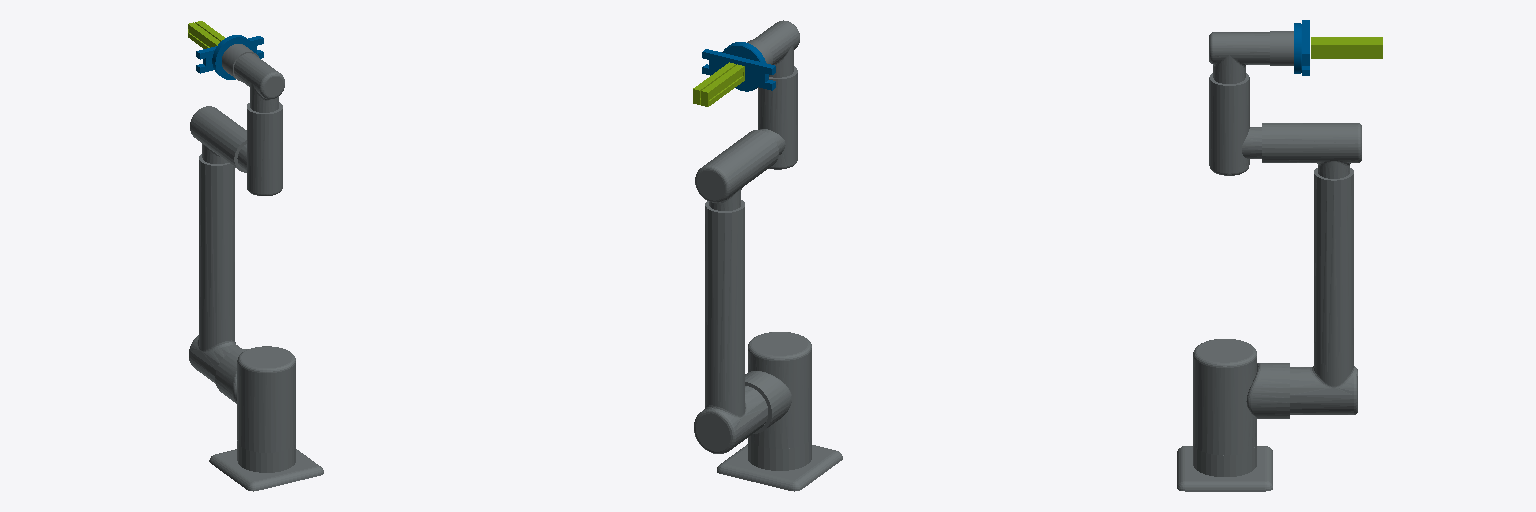
URDF robot description (bobby_v3):
<robot
  name="bobby_v3">
  <link
    name="bobby_base_link">
    <inertial>
      <origin
        xyz="-6.93889390390723E-18 -8.67361737988404E-18 0.00903009179983284"
        rpy="0 0 0" />
      <mass
        value="0.168853238991176" />
      <inertia
        ixx="0.000188908722369925"
        ixy="-5.7902642878712E-21"
        ixz="4.9831826221772E-21"
        iyy="0.000188908722369926"
        iyz="-1.68425616825269E-20"
        izz="0.000347553571686864" />
    </inertial>
    <visual>
      <origin
        xyz="0 0 0"
        rpy="0 0 0" />
      <geometry>
        <mesh
          filename="package://bobby/meshes/base_link.STL" />
      </geometry>
      <material
        name="technikum_grau">
        <color
          rgba="0.447 0.471 0.478 1" />
      </material>
    </visual>
    <collision>
      <origin
        xyz="0 0 0"
        rpy="0 0 0" />
      <geometry>
        <mesh
          filename="package://bobby/meshes/base_link.STL" />
      </geometry>
    </collision>
  </link>
  <link
    name="bobby_link_1">
    <inertial>
      <origin
        xyz="-2.15652112519824E-07 0.0107734448420019 0.109157368914489"
        rpy="0 0 0" />
      <mass
        value="0.19567354215977" />
      <inertia
        ixx="0.00036569472644765"
        ixy="3.25955315579442E-10"
        ixz="1.75361435601525E-09"
        iyy="0.000399646100597159"
        iyz="5.8509284245807E-07"
        izz="0.000228564395108126" />
    </inertial>
    <visual>
      <origin
        xyz="0 0 0"
        rpy="0 0 0" />
      <geometry>
        <mesh
          filename="package://bobby/meshes/link_1.STL" />
      </geometry>
      <material
        name="technikum_grau">
        <color
          rgba="0.447 0.471 0.478 1" />
      </material>
    </visual>
    <collision>
      <origin
        xyz="0 0 0"
        rpy="0 0 0" />
      <geometry>
        <mesh
          filename="package://bobby/meshes/link_1.STL" />
      </geometry>
    </collision>
  </link>
  <joint
    name="joint_1"
    type="revolute">
    <origin
      xyz="0 0 0"
      rpy="0 0 0" />
    <parent
      link="bobby_base_link" />
    <child
      link="bobby_link_1" />
    <axis
      xyz="0 0 1" />
    <limit
      lower="-3.14"
      upper="3.14"
      effort="80"
      velocity="1.5" />
    <dynamics
      damping="0.2" />
  </joint>
  <link
    name="bobby_link_2">
    <inertial>
      <origin
        xyz="-1.60868451060114E-08 -0.114041602248857 0.132749921878617"
        rpy="0 0 0" />
      <mass
        value="0.277035202004268" />
      <inertia
        ixx="0.00289478457764281"
        ixy="-1.24048336188053E-09"
        ixz="1.22368569354385E-09"
        iyy="0.000189976410051189"
        iyz="7.94253254153287E-05"
        izz="0.00286373711090803" />
    </inertial>
    <visual>
      <origin
        xyz="0 0 0"
        rpy="0 0 0" />
      <geometry>
        <mesh
          filename="package://bobby/meshes/link_2.STL" />
      </geometry>
      <material
        name="technikum_grau">
        <color
          rgba="0.447 0.471 0.478 1" />
      </material>
    </visual>
    <collision>
      <origin
        xyz="0 0 0"
        rpy="0 0 0" />
      <geometry>
        <mesh
          filename="package://bobby/meshes/link_2.STL" />
      </geometry>
    </collision>
  </link>
  <joint
    name="joint_2"
    type="revolute">
    <origin
      xyz="0 0 0.11"
      rpy="-1.5707963267949 0 0" />
    <parent
      link="bobby_link_1" />
    <child
      link="bobby_link_2" />
    <axis
      xyz="0 0 1" />
    <limit
      lower="-2"
      upper="2"
      effort="60"
      velocity="1.5" />
    <dynamics
      damping="0.15" />
  </joint>
  <link
    name="bobby_link_3">
    <inertial>
      <origin
        xyz="-4.46835846875521E-07 -0.021332834225784 0.336950985055037"
        rpy="0 0 0" />
      <mass
        value="0.104323112073039" />
      <inertia
        ixx="0.000172552084016025"
        ixy="1.24275852401533E-10"
        ixz="-1.16774421742549E-10"
        iyy="5.69008711097092E-05"
        iyz="6.87130934985452E-06"
        izz="0.000165314592613562" />
    </inertial>
    <visual>
      <origin
        xyz="0 0 0"
        rpy="0 0 0" />
      <geometry>
        <mesh
          filename="package://bobby/meshes/link_3.STL" />
      </geometry>
      <material
        name="technikum_grau">
        <color
          rgba="0.447 0.471 0.478 1" />
      </material>
    </visual>
    <collision>
      <origin
        xyz="0 0 0"
        rpy="0 0 0" />
      <geometry>
        <mesh
          filename="package://bobby/meshes/link_3.STL" />
      </geometry>
    </collision>
  </link>
  <joint
    name="joint_3"
    type="revolute">
    <origin
      xyz="0 0 0.135"
      rpy="1.5707963267949 0 0" />
    <parent
      link="bobby_link_2" />
    <child
      link="bobby_link_3" />
    <axis
      xyz="0 0 -1" />
    <limit
      lower="-2.5"
      upper="2.5"
      effort="40"
      velocity="2" />
    <dynamics
      damping="0.1" />
  </joint>
  <link
    name="bobby_link_4">
    <inertial>
      <origin
        xyz="-7.35759638319233E-08 0.0214973669189123 0.127010226840711"
        rpy="0 0 0" />
      <mass
        value="0.104021403954901" />
      <inertia
        ixx="0.000172095228395825"
        ixy="5.22139873101622E-11"
        ixz="-7.41592698784508E-11"
        iyy="5.67379606621111E-05"
        iyz="-6.68507413422721E-06"
        izz="0.000164961710546567" />
    </inertial>
    <visual>
      <origin
        xyz="0 0 0"
        rpy="0 0 0" />
      <geometry>
        <mesh
          filename="package://bobby/meshes/link_4.STL" />
      </geometry>
      <material
        name="technikum_grau">
        <color
          rgba="0.447 0.471 0.478 1" />
      </material>
    </visual>
    <collision>
      <origin
        xyz="0 0 0"
        rpy="0 0 0" />
      <geometry>
        <mesh
          filename="package://bobby/meshes/link_4.STL" />
      </geometry>
    </collision>
  </link>
  <joint
    name="joint_4"
    type="revolute">
    <origin
      xyz="0 0.000262563950500366 0.34"
      rpy="1.5707963267949 0 0" />
    <parent
      link="bobby_link_3" />
    <child
      link="bobby_link_4" />
    <axis
      xyz="0 0 -1" />
    <limit
      lower="-3.14"
      upper="3.14"
      effort="20"
      velocity="3" />
    <dynamics
      damping="0.05" />
  </joint>
  <link
    name="bobby_link_5">
    <inertial>
      <origin
        xyz="-7.72747078825464E-09 0.0118852064404541 0.124078122231419"
        rpy="0 0 0" />
      <mass
        value="0.0635312499775335" />
      <inertia
        ixx="5.3078651829625E-05"
        ixy="-2.16462957974075E-11"
        ixz="-2.18923663634894E-11"
        iyy="2.59966766341151E-05"
        iyz="-4.43828682190682E-06"
        izz="4.66910033521407E-05" />
    </inertial>
    <visual>
      <origin
        xyz="0 0 0"
        rpy="0 0 0" />
      <geometry>
        <mesh
          filename="package://bobby/meshes/link_5.STL" />
      </geometry>
      <material
        name="technikum_grau">
        <color
          rgba="0.447 0.471 0.478 1" />
      </material>
    </visual>
    <collision>
      <origin
        xyz="0 0 0"
        rpy="0 0 0" />
      <geometry>
        <mesh
          filename="package://bobby/meshes/link_5.STL" />
      </geometry>
    </collision>
  </link>
  <joint
    name="joint_5"
    type="revolute">
    <origin
      xyz="0 -0.000178126389957234 0.13"
      rpy="-1.5707963267949 0 0" />
    <parent
      link="bobby_link_4" />
    <child
      link="bobby_link_5" />
    <axis
      xyz="0 0 -1" />
    <limit
      lower="-2"
      upper="2"
      effort="15"
      velocity="3.5" />
    <dynamics
      damping="0.05" />
  </joint>
  <link
    name="bobby_link_6">
    <inertial>
      <origin
        xyz="-9.09411435046081E-14 -4.99933427988708E-13 0.00443393044915172"
        rpy="0 0 0" />
      <mass
        value="0.0247796339074861" />
      <inertia
        ixx="5.79719477129161E-06"
        ixy="1.69371937738642E-21"
        ixz="-1.74584771115396E-21"
        iyy="5.61206813663289E-06"
        iyz="1.25047386620786E-20"
        izz="8.2664668127508E-06" />
    </inertial>
    <visual>
      <origin xyz="0 0 -0.005" rpy="0 0 0"/>
      <geometry><mesh filename="package://bobby/meshes/link_6.STL" scale="0.001 0.001 0.001"/></geometry>
      <material name="technikum_grau"><color rgba="0.447 0.471 0.478 1"/></material>
    </visual>
    <collision>
      <origin xyz="0 0 -0.005" rpy="0 0 0"/>
      <geometry><mesh filename="package://bobby/meshes/link_6.STL" scale="0.001 0.001 0.001"/></geometry>
    </collision>
  </link>
  <joint
    name="joint_6"
    type="revolute">
    <origin
      xyz="0 0.0700000000012193 0.129999999999002"
      rpy="-1.57079632679489 0 0" />
    <parent
      link="bobby_link_5" />
    <child
      link="bobby_link_6" />
    <axis
      xyz="0 0 -1" />
    <limit
      lower="-3.14"
      upper="3.14"
      effort="10"
      velocity="4" />
    <dynamics
      damping="0.03" />
  </joint>
  
  
  <link name="bobby_gripper_flange">
    <inertial>
      <origin xyz="0 0 0.005" rpy="0 0 0"/>
      <mass value="0.2"/>
      <inertia ixx="6.782e-05" ixy="0" ixz="0" iyy="6.782e-05" iyz="0" izz="1.323e-04"/>
    </inertial>
    <visual>
      <origin xyz="0 0 0.005" rpy="0 0 0"/>
      <geometry><mesh filename="package://bobby/meshes/gripper_flange.STL" scale="0.001 0.001 0.001"/></geometry>
      <material name="technikum_blau"><color rgba="0 0.392 0.612 1"/></material>
    </visual>
    <collision>
      <origin xyz="0 0 0.005" rpy="0 0 0"/>
      <geometry><mesh filename="package://bobby/meshes/gripper_flange.STL" scale="0.001 0.001 0.001"/></geometry>
    </collision>
  </link>
  <joint name="gripper_flange_joint" type="fixed">
    <origin xyz="0 0 0.01" rpy="0 0 0"/>
    <parent link="bobby_link_6"/>
    <child link="bobby_gripper_flange"/>
    <axis xyz="0 0 0"/>
  </joint>

  
  <link name="bobby_gripper_base">
    <inertial>
      <origin xyz="0 0 0.015" rpy="0 0 0"/>
      <mass value="0.028"/>
      <inertia ixx="2.333e-06" ixy="0" ixz="0" iyy="2.357e-05" iyz="0" izz="2.543e-05"/>
    </inertial>
    <visual>
      <origin xyz="0 0 0.015" rpy="0 0 0"/>
      <geometry><mesh filename="package://bobby/meshes/gripper_base.STL" scale="0.001 0.001 0.001"/></geometry>
      <material name="technikum_blau"/>
    </visual>
    <collision>
      <origin xyz="0 0 0.015" rpy="0 0 0"/>
      <geometry><mesh filename="package://bobby/meshes/gripper_base.STL" scale="0.001 0.001 0.001"/></geometry>
    </collision>
  </link>
  <joint name="gripper_base_joint" type="fixed">
    <origin xyz="0 0 0" rpy="0 0 0"/>
    <parent link="bobby_gripper_flange"/>
    <child link="bobby_gripper_base"/>
    <axis xyz="0 0 0"/>
  </joint>

  
  <link name="bobby_finger_left">
    <inertial>
      <origin xyz="0 0 0.045" rpy="0 0 0"/>
      <mass value="0.05"/>
      <inertia ixx="3.542e-05" ixy="0" ixz="0" iyy="3.417e-05" iyz="0" izz="2.083e-06"/>
    </inertial>
    <visual>
      <origin xyz="0 0 0.045" rpy="0 0 0"/>
      <geometry><mesh filename="package://bobby/meshes/finger_left.STL" scale="0.001 0.001 0.001"/></geometry>
      <material name="technikum_gruen"><color rgba="0.545 0.702 0.114 1"/></material>
    </visual>
    <collision>
      <origin xyz="0 0 0.045" rpy="0 0 0"/>
      <geometry><mesh filename="package://bobby/meshes/finger_left.STL" scale="0.001 0.001 0.001"/></geometry>
    </collision>
  </link>
  <joint name="finger_left_joint" type="prismatic">
    <origin xyz="0.006 0 0.021" rpy="0 0 0"/>
    <parent link="bobby_gripper_base"/>
    <child link="bobby_finger_left"/>
    <axis xyz="1 0 0"/>
    <limit lower="0" upper="0.04" effort="50" velocity="0.1"/>
  </joint>

  
  <link name="bobby_finger_right">
    <inertial>
      <origin xyz="0 0 0.045" rpy="0 0 0"/>
      <mass value="0.05"/>
      <inertia ixx="3.542e-05" ixy="0" ixz="0" iyy="3.417e-05" iyz="0" izz="2.083e-06"/>
    </inertial>
    <visual>
      <origin xyz="0 0 0.045" rpy="0 0 0"/>
      <geometry><mesh filename="package://bobby/meshes/finger_left.STL" scale="0.001 0.001 0.001"/></geometry>
      <material name="technikum_gruen"><color rgba="0.545 0.702 0.114 1"/></material>
    </visual>
    <collision>
      <origin xyz="0 0 0.045" rpy="0 0 0"/>
      <geometry><mesh filename="package://bobby/meshes/finger_left.STL" scale="0.001 0.001 0.001"/></geometry>
    </collision>
  </link>
  <joint name="finger_right_joint" type="prismatic">
    <origin xyz="-0.006 0 0.021" rpy="0 0 0"/>
    <parent link="bobby_gripper_base"/>
    <child link="bobby_finger_right"/>
    <axis xyz="1 0 0"/>
    <limit lower="-0.04" upper="0" effort="50" velocity="0.1"/>
    <mimic joint="finger_left_joint" multiplier="-1" offset="0"/>
  </joint>

  
  <link name="bobby_TCP"/>
  <joint name="TCP_joint" type="fixed">
    <origin xyz="0 0 0.111" rpy="0 0 0"/>
    <parent link="bobby_gripper_base"/>
    <child link="bobby_TCP"/>
    <axis xyz="0 0 0"/>
  </joint>
  <link name="world"/>
  <joint name="bobby_world_joint" type="fixed">
    <parent link="world"/>
    <child link="bobby_base_link"/>
    <origin xyz="0 1.5 0.8" rpy="0 0 0"/>
  </joint>
  <ros2_control name="bobby_system" type="system">
    <hardware>
      <plugin>gazebo_ros2_control/GazeboSystem</plugin>
    </hardware>
    <joint name="joint_1">
      <command_interface name="position"/>
      <state_interface name="position"/>
      <state_interface name="velocity"/>
    </joint>
    <joint name="joint_2">
      <command_interface name="position"/>
      <state_interface name="position"/>
      <state_interface name="velocity"/>
    </joint>
    <joint name="joint_3">
      <command_interface name="position"/>
      <state_interface name="position"/>
      <state_interface name="velocity"/>
    </joint>
    <joint name="joint_4">
      <command_interface name="position"/>
      <state_interface name="position"/>
      <state_interface name="velocity"/>
    </joint>
    <joint name="joint_5">
      <command_interface name="position"/>
      <state_interface name="position"/>
      <state_interface name="velocity"/>
    </joint>
    <joint name="joint_6">
      <command_interface name="position"/>
      <state_interface name="position"/>
      <state_interface name="velocity"/>
    </joint>
    <joint name="finger_left_joint">
      <command_interface name="position"/>
      <state_interface name="position"/>
      <state_interface name="velocity"/>
    </joint>
  </ros2_control>
  <gazebo>
    <plugin filename="libgazebo_ros2_control.so" name="bobby_gazebo_ros2_control">
      <robot_param>robot_description</robot_param>
      <robot_param_node>robot_state_publisher</robot_param_node>
      <ros>
        <namespace>/bobby</namespace>
      </ros>
      <parameters>__BOBBY_CONTROLLERS_YAML__</parameters>
    </plugin>
  </gazebo>
</robot>

--- Facts derived from the render (not from the file) ---
3 views of the same robot in one strip: view 1: azimuth 30°, elevation 25°; view 2: azimuth 150°, elevation 25°; view 3: azimuth 270°, elevation 25° (orthographic).
Robot: bobby_v3 — 13 links, 12 joints (6 revolute, 2 prismatic, 4 fixed); root link world; default pose: all joints at 0.
Links seen in each view (by area): view 1: bobby_link_2, bobby_link_1, bobby_base_link, bobby_link_4, bobby_link_3, bobby_link_5, bobby_gripper_flange, bobby_gripper_base; view 2: bobby_link_2, bobby_link_1, bobby_base_link, bobby_link_3, bobby_link_4, bobby_link_5, bobby_gripper_base, bobby_finger_right, bobby_gripper_flange; view 3: bobby_link_2, bobby_link_1, bobby_link_3, bobby_link_4, bobby_base_link, bobby_link_5, bobby_finger_left, bobby_link_6.
Link boxes in pixels (x1,y1,x2,y2): bobby_link_2: (189, 154, 241, 383); bobby_link_1: (215, 346, 295, 452); bobby_base_link: (209, 440, 323, 491); bobby_link_4: (237, 102, 282, 195); bobby_link_3: (190, 106, 246, 172); bobby_link_5: (234, 53, 284, 112); bobby_gripper_flange: (212, 35, 254, 79); bobby_gripper_base: (196, 36, 263, 73); bobby_link_2: (694, 200, 767, 453); bobby_link_1: (745, 332, 811, 448); bobby_base_link: (717, 438, 842, 491); bobby_link_3: (695, 130, 778, 210); bobby_link_4: (758, 66, 797, 169); bobby_link_5: (753, 20, 799, 77); bobby_gripper_base: (702, 49, 775, 90); bobby_finger_right: (701, 64, 744, 106); bobby_gripper_flange: (722, 42, 765, 91); bobby_link_2: (1290, 168, 1357, 414); bobby_link_1: (1193, 339, 1289, 455); bobby_link_3: (1262, 123, 1361, 178); bobby_link_4: (1209, 73, 1261, 175); bobby_base_link: (1177, 444, 1272, 491); bobby_link_5: (1209, 32, 1269, 83); bobby_finger_left: (1311, 41, 1382, 58); bobby_link_6: (1270, 31, 1293, 65).
Bounding box of the posed robot: 0.12 × 0.2563 × 0.6113 m (x, y, z).
11 mesh visuals loaded from 10 distinct referenced files (10 binary STL).
